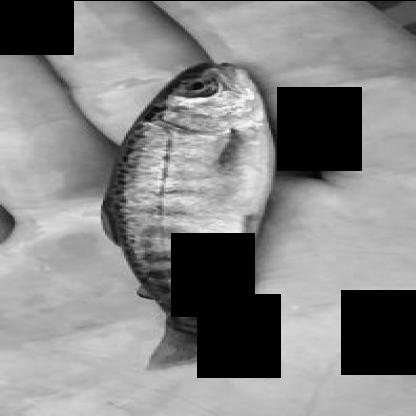fish: (93, 61, 273, 377)
